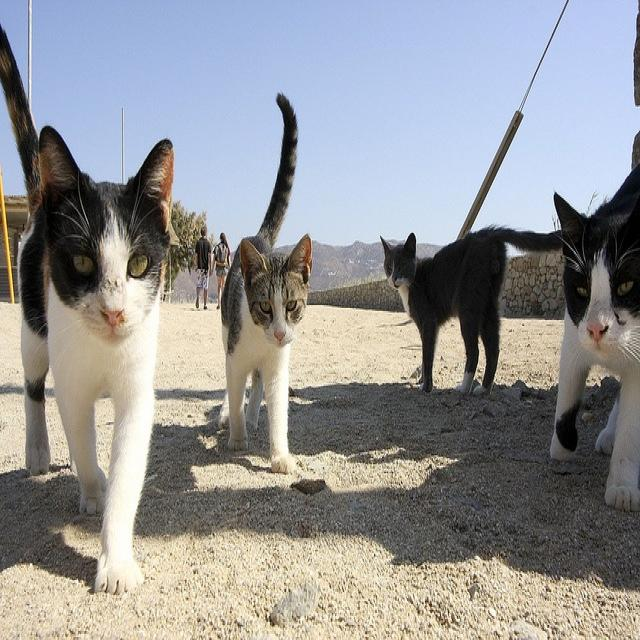cat: (0, 26, 174, 592), (219, 94, 312, 473), (550, 163, 640, 510), (382, 227, 562, 394)
